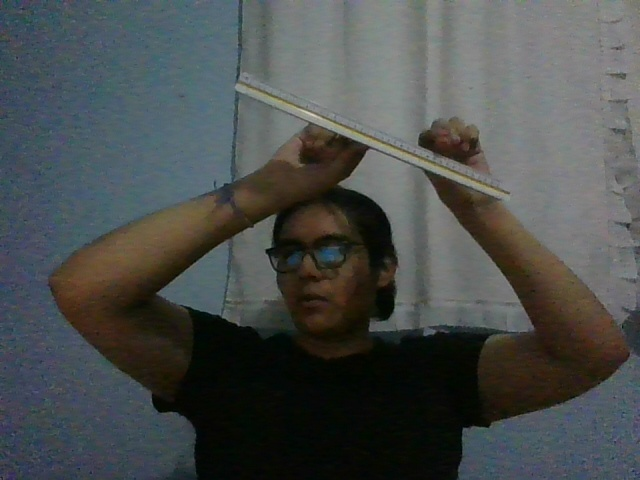regla: (234, 72, 512, 202)
